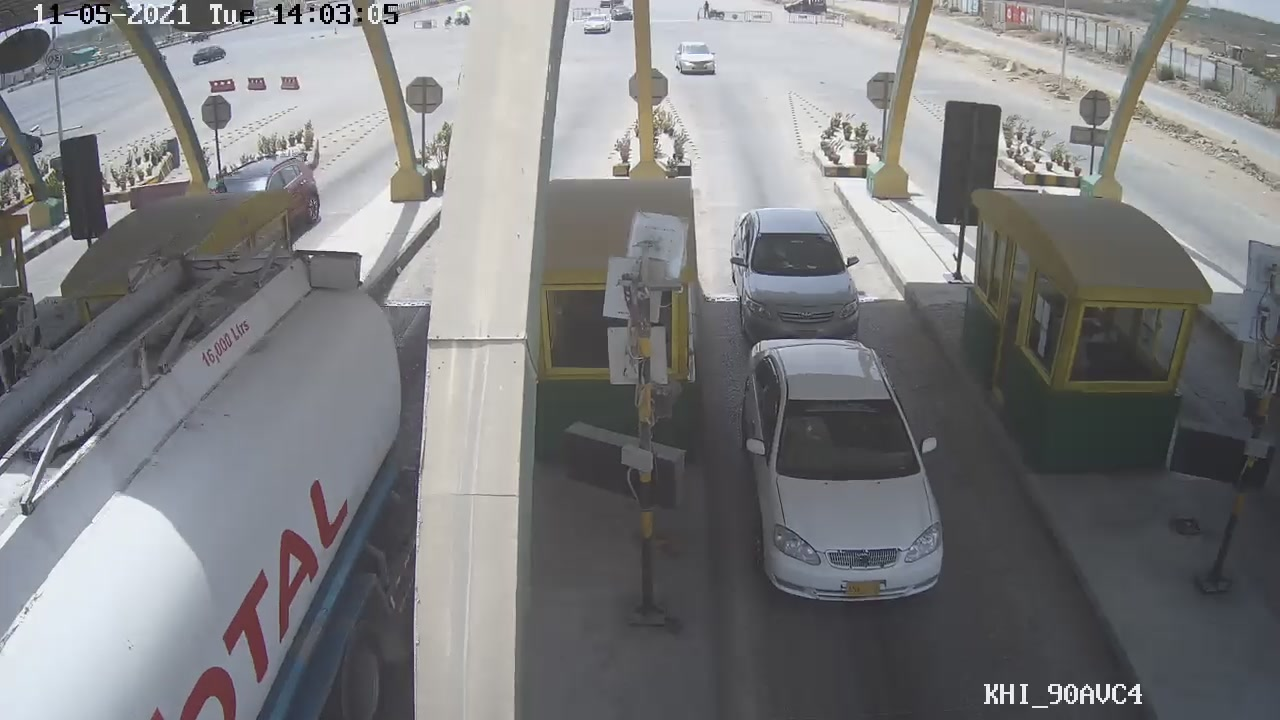F1: (739, 329, 946, 608)
